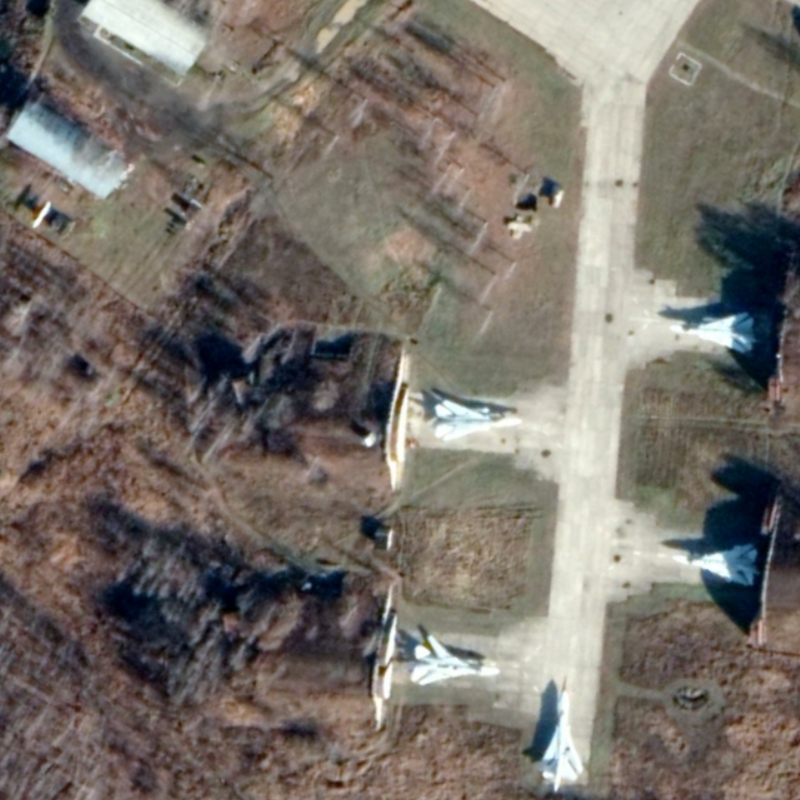A20: (408, 632, 502, 687), (539, 687, 586, 783), (669, 541, 760, 588), (432, 398, 525, 443), (668, 309, 757, 356)
